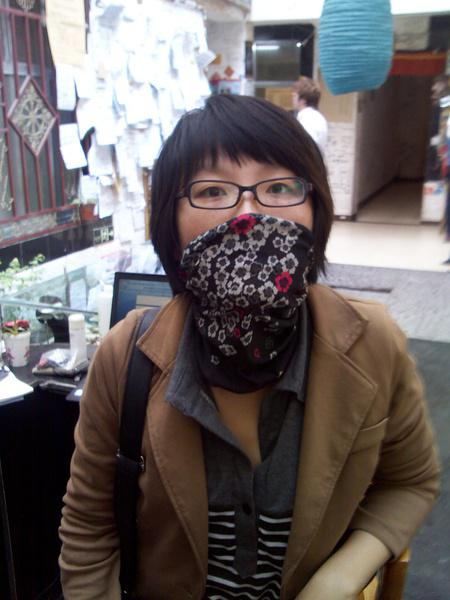WRONG: (172, 160, 332, 320)
